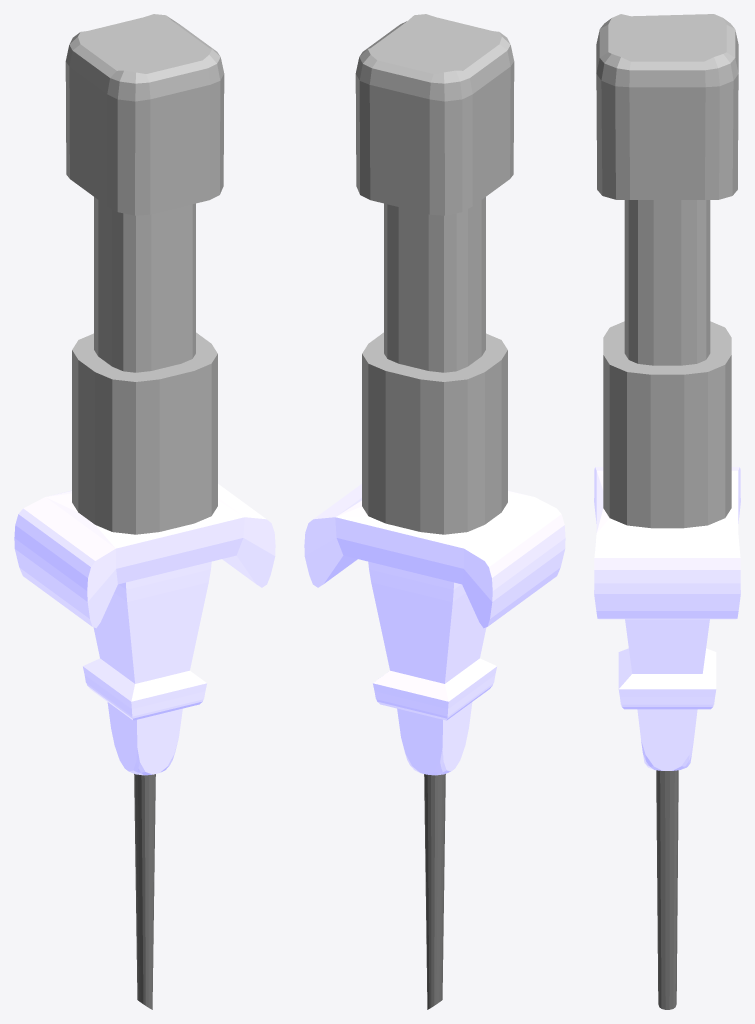
The model's file is cateter.fbx.
3 views of the same model, side by side, from view 1: azimuth 30°, elevation 25°; view 2: azimuth 150°, elevation 25°; view 3: azimuth 270°, elevation 25° (orthographic).
Parts seen in each view (by area): view 1: Cateter; view 2: Cateter; view 3: Cateter.
Boxes of the visible parts, x1,y1,x2,y2 form: Cateter: (14,14,275,1009); Cateter: (304,14,565,1009); Cateter: (594,14,740,1009).
Bounding box in the file's own units: 129 × 633 × 86.7.
